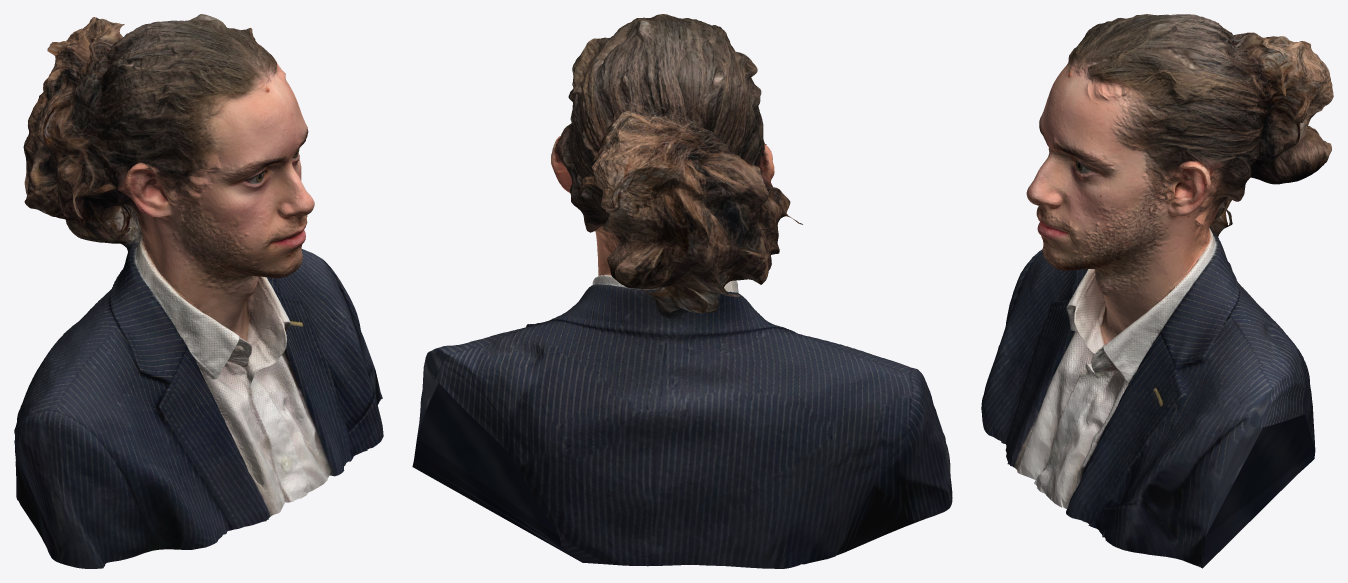
The model's file is portre.glb.
3 renders of one model, left to right at view 1: azimuth 30°, elevation 25°; view 2: azimuth 150°, elevation 25°; view 3: azimuth 270°, elevation 25°, orthographic. The views are drawn at different scales.
Visible parts, largest first — view 1: Mesh_0; view 2: Mesh_0; view 3: Mesh_0.
Boxes of the visible parts, left/top/right/bottom form: Mesh_0: left=14, top=14, right=383, bottom=568; Mesh_0: left=412, top=14, right=952, bottom=568; Mesh_0: left=981, top=14, right=1333, bottom=568.
Size of the model in its own units: 0.4671 by 0.4739 by 0.3376.
Materials: 1 (1 with a texture image).
